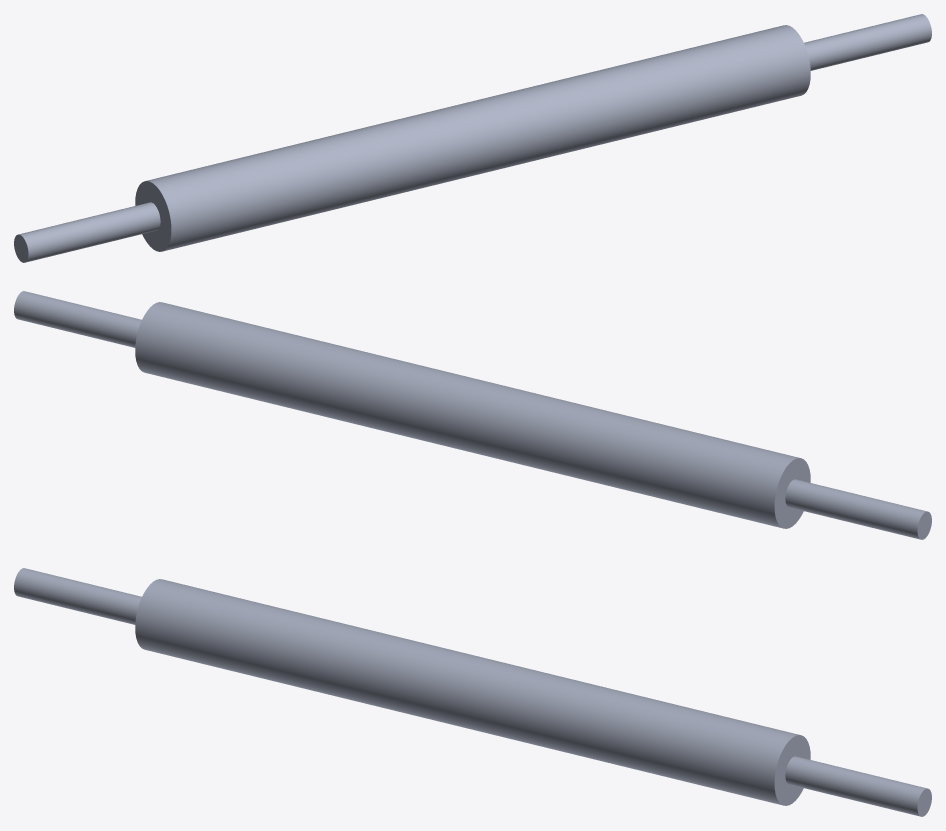
File: palo.dae
The picture shows the model from 3 angles, top to bottom: view 1: azimuth 30°, elevation 25°; view 2: azimuth 150°, elevation 25°; view 3: azimuth 330°, elevation 25°; orthographic projection.
Visible parts, largest first — view 1: palo; view 2: palo; view 3: palo.
Boxes of the visible parts, x1,y1,x2,y2 form: palo: (14, 14, 931, 262); palo: (14, 291, 931, 539); palo: (14, 568, 931, 816).
Size of the model in its own units: 0.1437 by 0.01 by 0.01.
